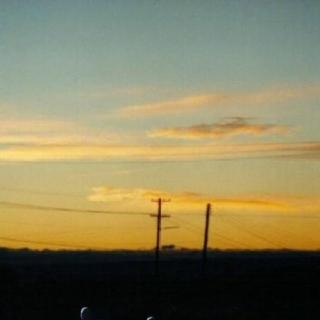Stratocumulus: (0, 85, 320, 221)
